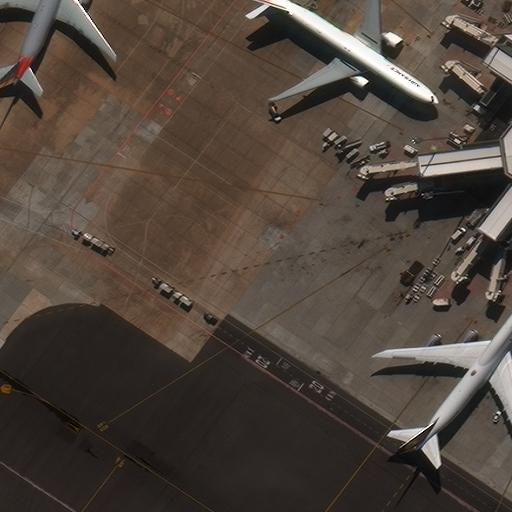Large Civil Transport: (250, 0, 440, 104), (398, 307, 512, 448), (0, 0, 117, 83)
